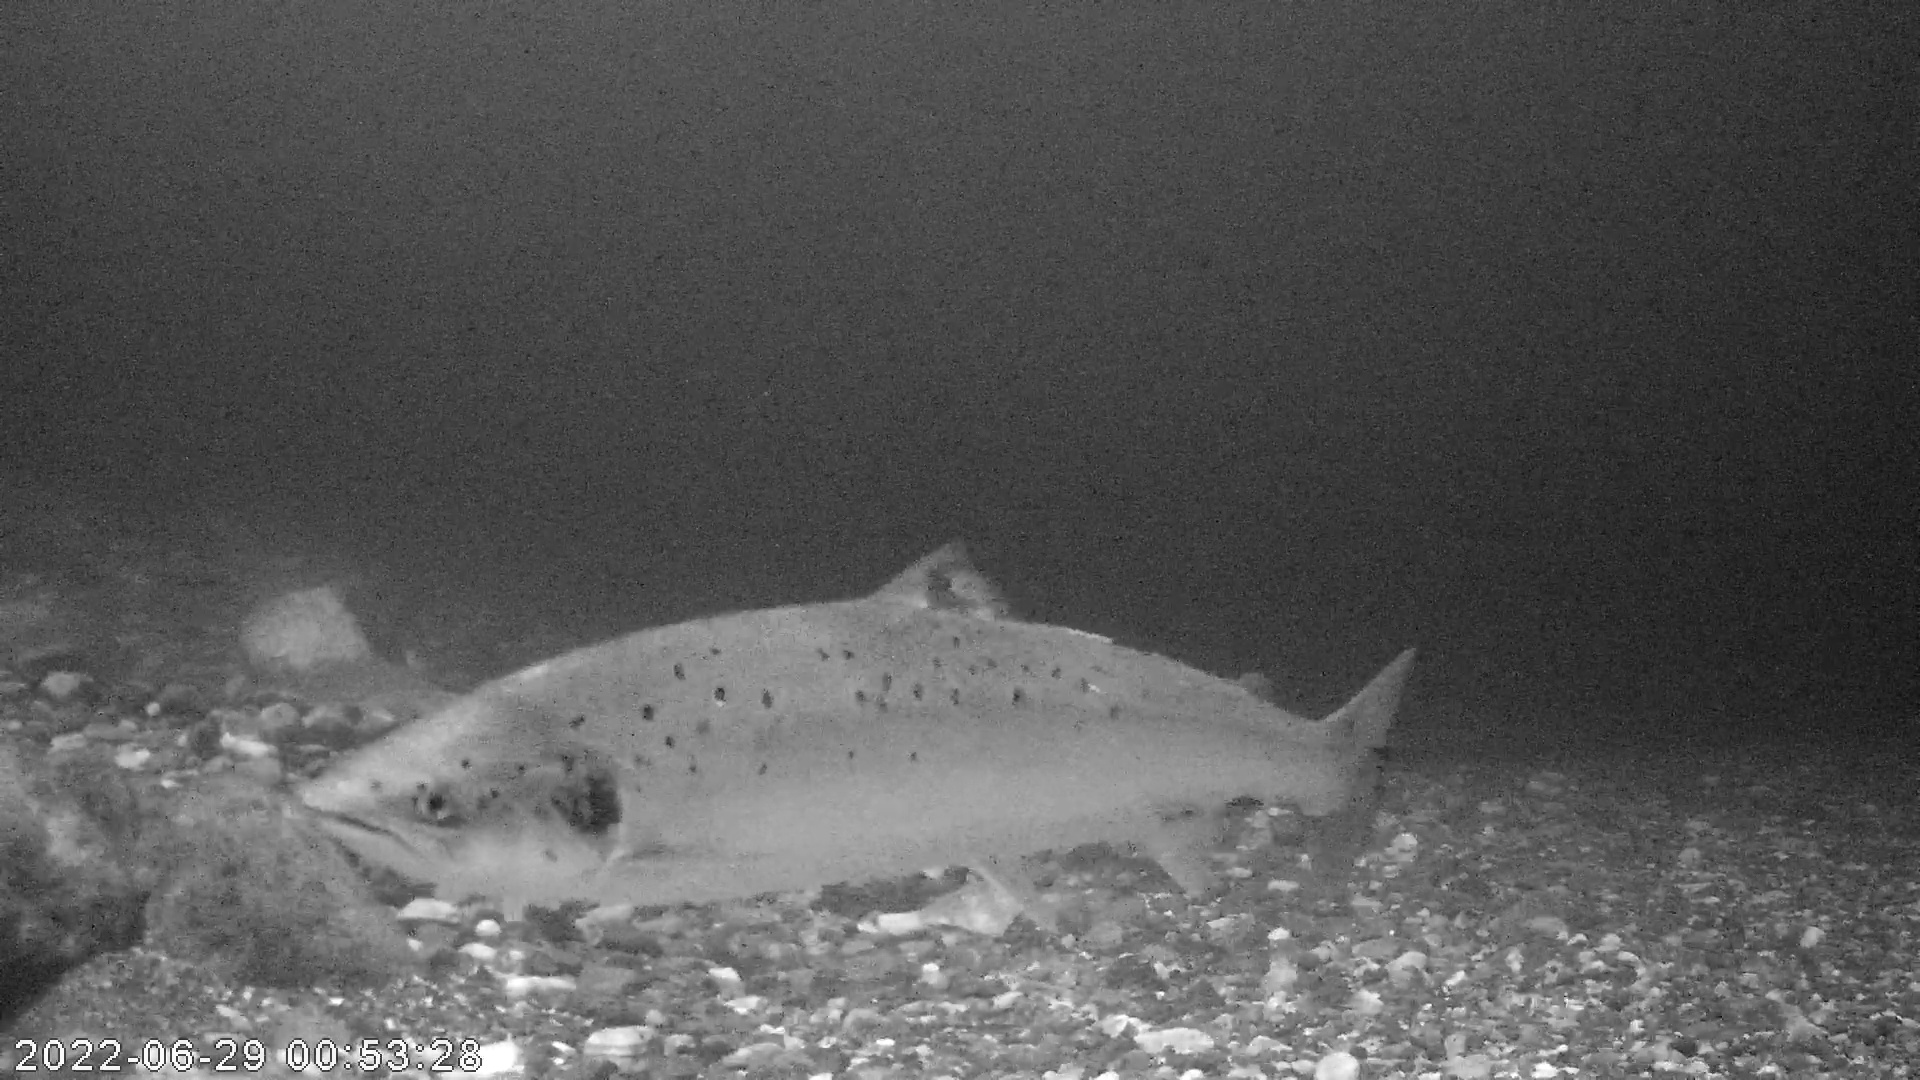salmon: (294, 538, 1422, 932)
